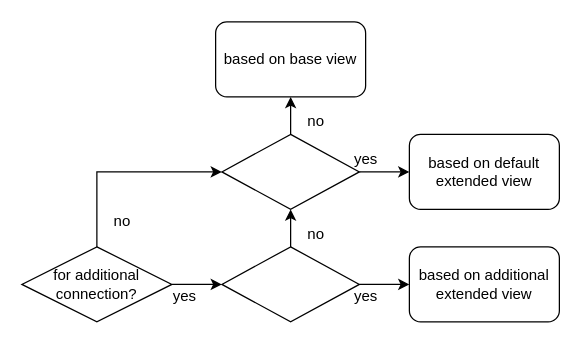
The diagram is 581 pixels wide and 344 high, and some of its shapes have lost their labels. Here are the shapes that lost their labels. From the top down, the box of each, then its label:
(221, 133, 359, 209): has default extended view?
(221, 246, 359, 322): has additional extended view?
